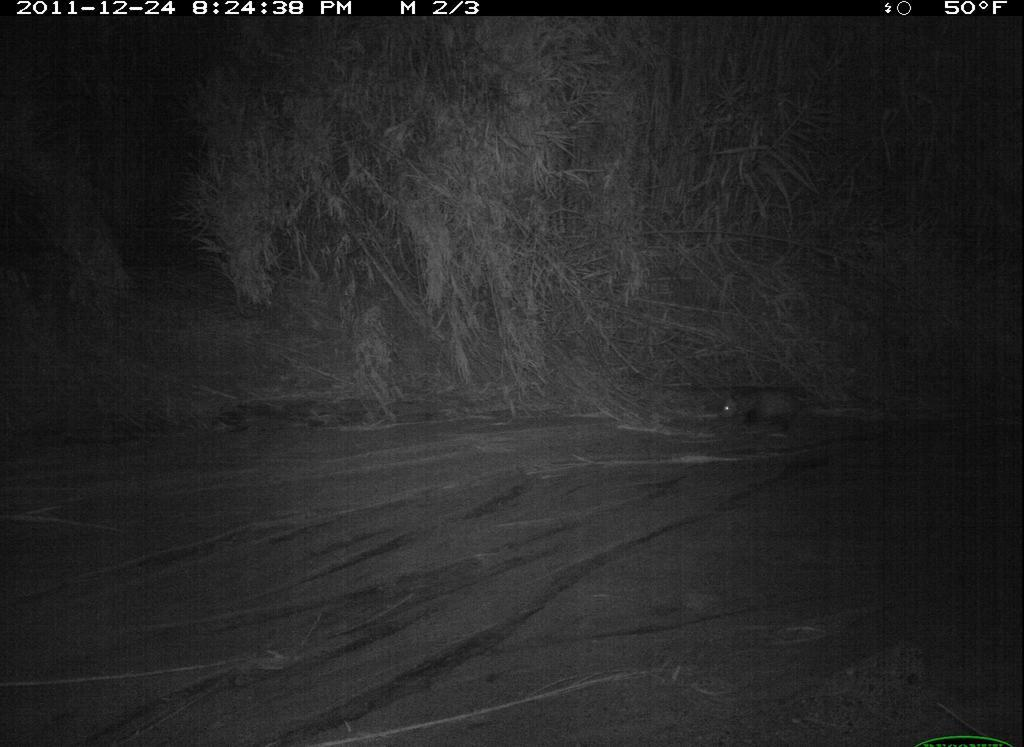opossum: (701, 370, 840, 445)
